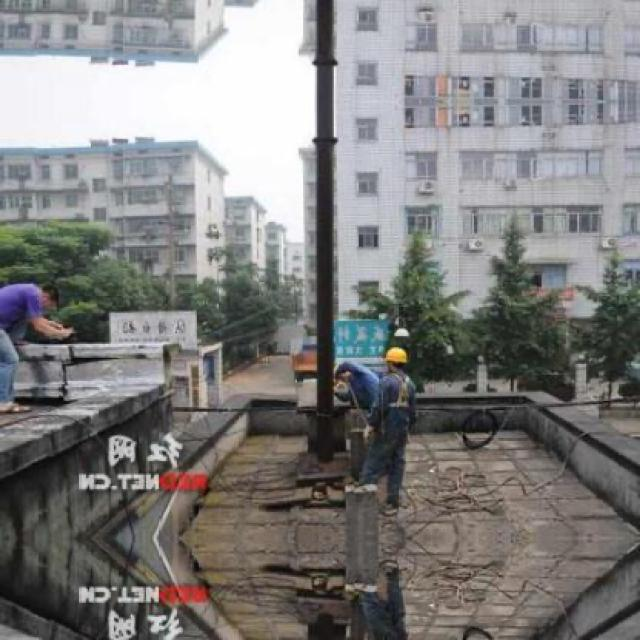con casco: (358, 318, 420, 402)
